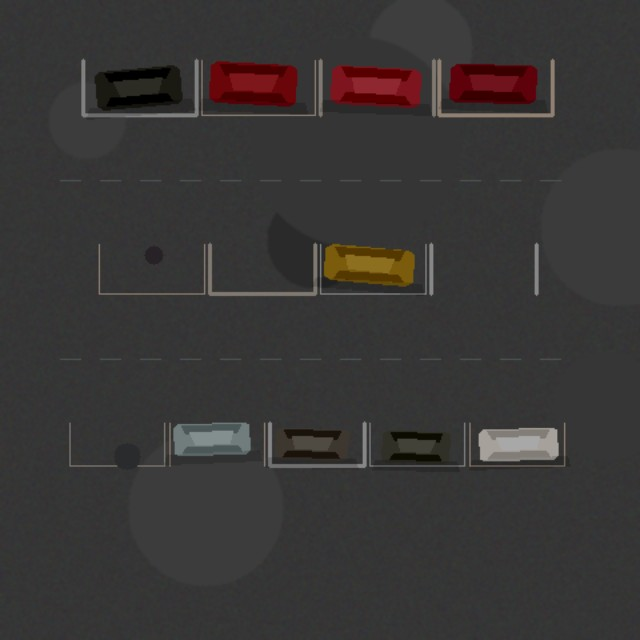space-empty: (209, 244, 315, 293), (99, 244, 204, 293), (431, 244, 536, 293), (69, 423, 164, 465)
space-occupied: (201, 60, 315, 115), (83, 60, 196, 115), (320, 60, 433, 115), (439, 60, 552, 115), (320, 244, 425, 293), (169, 423, 264, 465), (269, 423, 364, 465), (369, 423, 464, 465), (469, 423, 564, 465)
